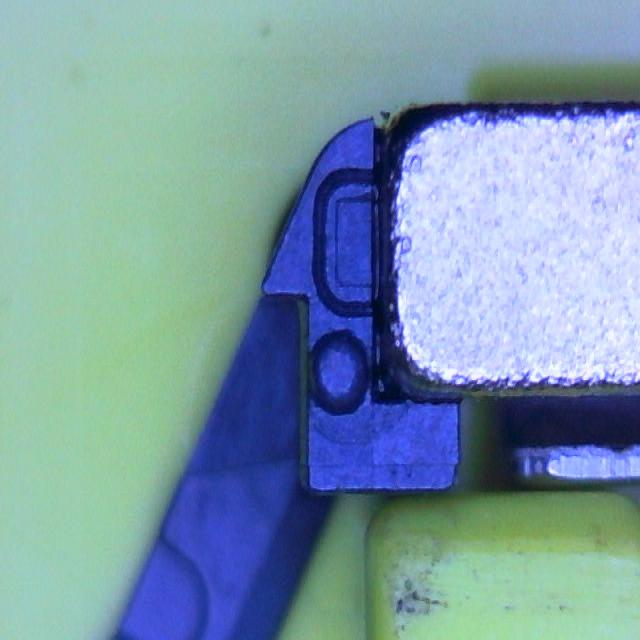lacking: (311, 165, 387, 319)
